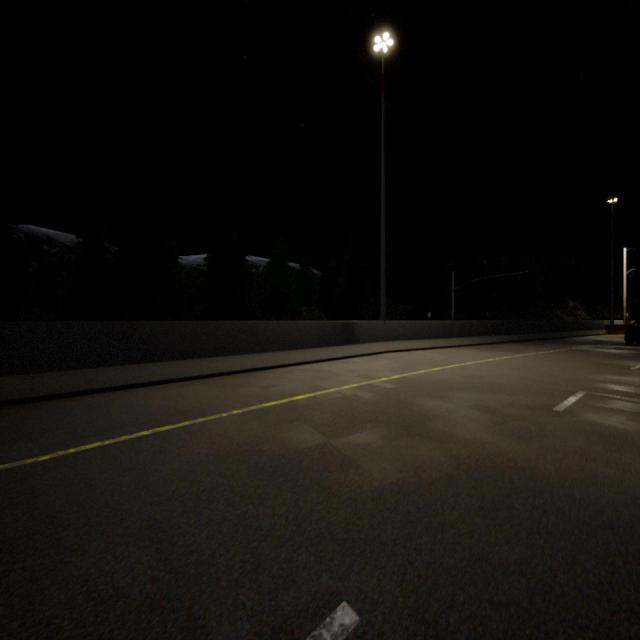Traffic_Signs: (427, 312, 431, 318)
Vehicle: (624, 318, 640, 347)
